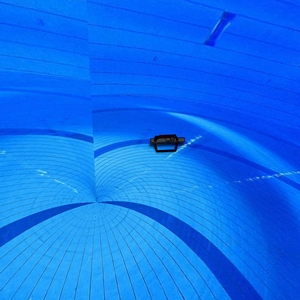submarine: (143, 122, 190, 162)
